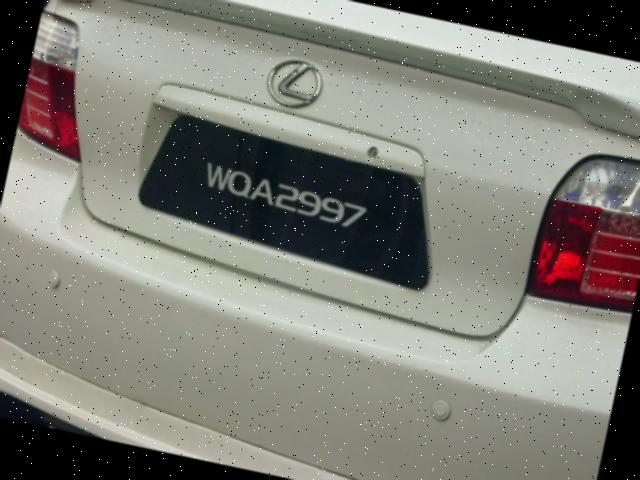License_Plate: (164, 135, 416, 265)
car: (1, 1, 640, 480)
